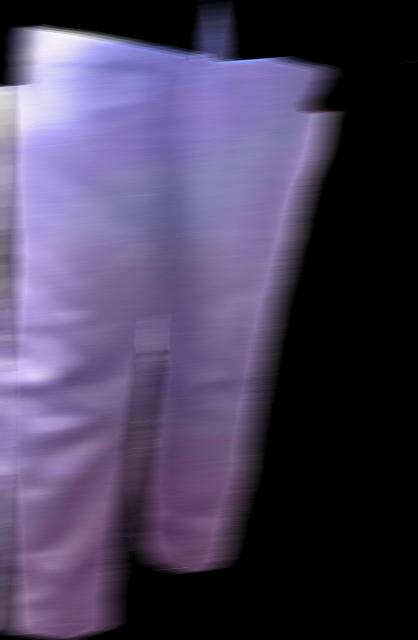blackpants: (0, 0, 333, 639)
